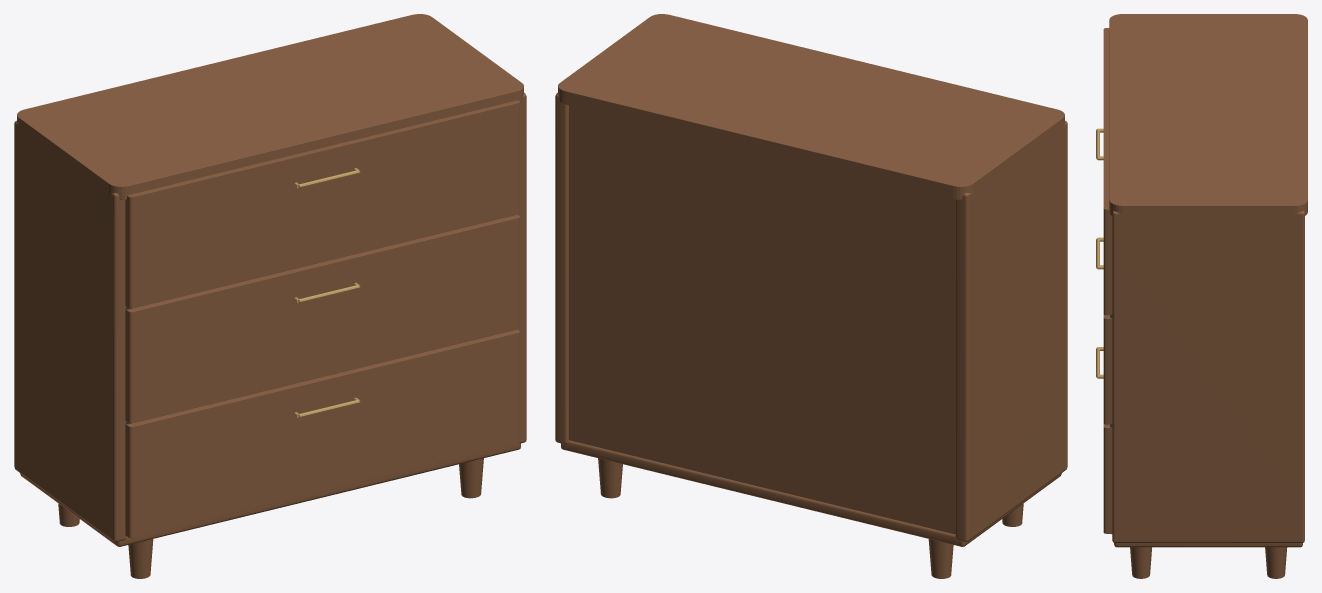
The model's file is designed-dresser-walnut.glb.
The picture shows the model from 3 angles, left to right: view 1: azimuth 30°, elevation 25°; view 2: azimuth 150°, elevation 25°; view 3: azimuth 270°, elevation 25°; orthographic projection. The views are drawn at different scales.
Parts seen in each view (by area): view 1: catalog_surface_RealismUV; view 2: catalog_surface_RealismUV; view 3: catalog_surface_RealismUV.
Boxes of the visible parts, x1,y1,x2,y2 form: catalog_surface_RealismUV: (14,14,526,578); catalog_surface_RealismUV: (555,14,1067,578); catalog_surface_RealismUV: (1096,14,1307,578).
Bounding box in the file's own units: 0.9 × 0.85 × 0.42.
